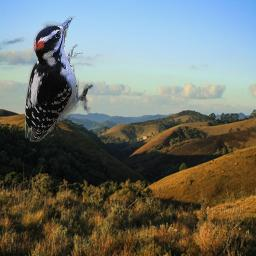Woodpecker: (25, 16, 93, 142)
